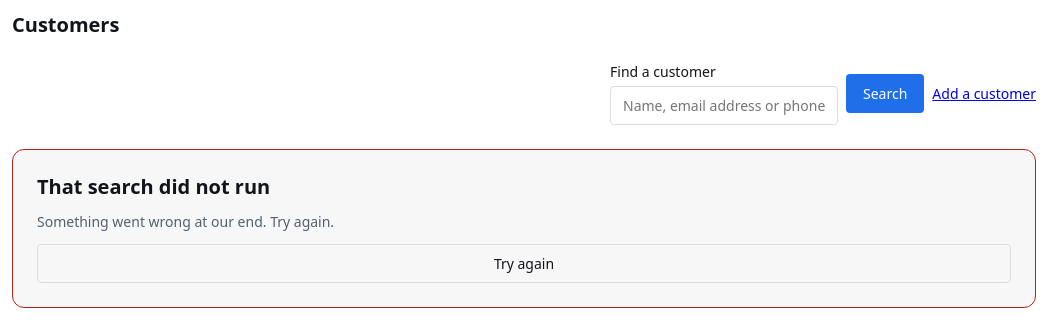
a failed search shows what the API said and offers retry
This screenshot has width=1048, height=325.
Expected: the text "Something went wrong at our end. Try again." is shown, [37, 212, 334, 231]
Click the button "Try again": (524, 264) [37, 244, 1011, 283]
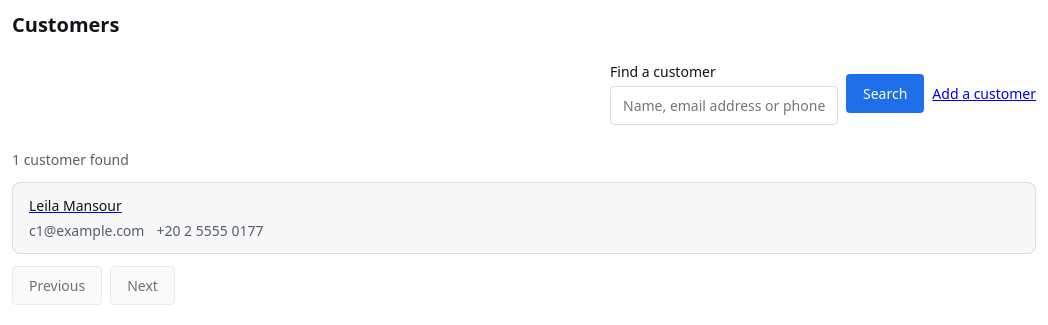
Expected: the text "Leila Mansour" is shown, [29, 196, 122, 215]
